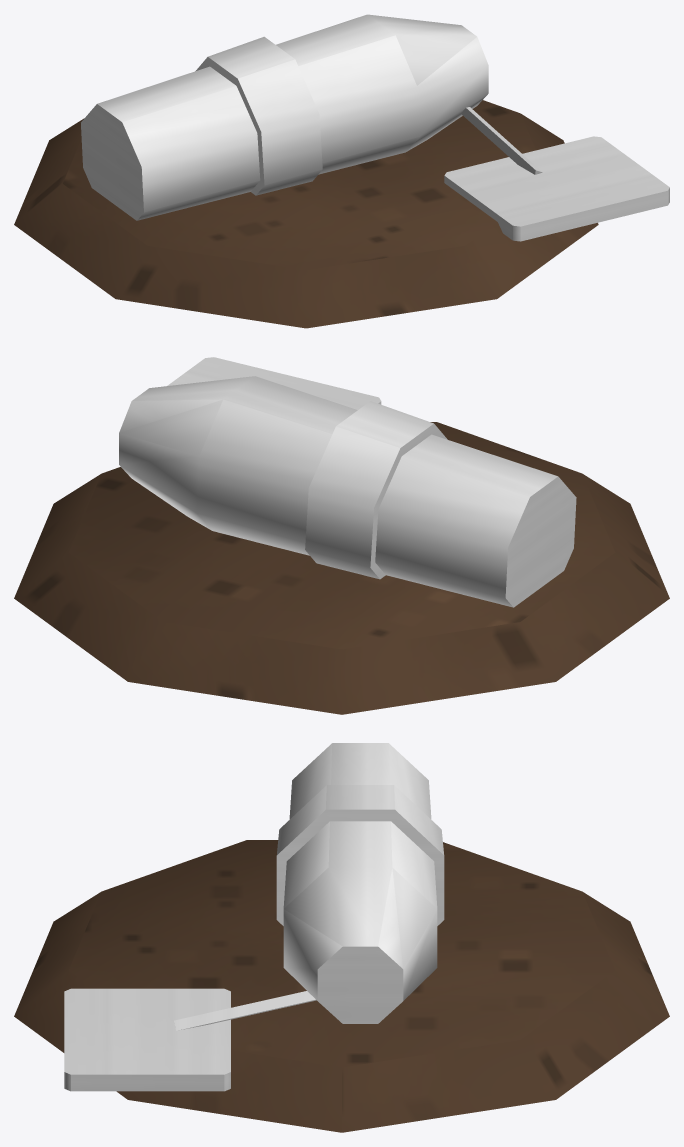
Rendered from ied_highexplosive.obj.
3 views of the same model, one above another, from view 1: azimuth 30°, elevation 25°; view 2: azimuth 150°, elevation 25°; view 3: azimuth 270°, elevation 25° (orthographic). The views are drawn at different scales.
Visible parts, largest first — view 1: retained_0, retained_10, trigger_control_plate, retained_44, retained_67; view 2: retained_0, retained_10, retained_44, trigger_control_plate; view 3: retained_0, retained_10, trigger_control_plate, retained_44, retained_67.
Part boxes in pixels (x1,y1,x2,y2): retained_0: (14, 100, 598, 328); retained_10: (81, 14, 488, 220); trigger_control_plate: (444, 136, 669, 241); retained_44: (195, 36, 322, 195); retained_67: (461, 107, 542, 174); retained_0: (14, 422, 669, 714); retained_10: (119, 376, 576, 607); retained_44: (305, 401, 447, 579); trigger_control_plate: (167, 357, 381, 409); retained_0: (14, 840, 669, 1132); retained_10: (283, 743, 437, 1023); trigger_control_plate: (64, 988, 230, 1091); retained_44: (276, 785, 444, 925); retained_67: (174, 991, 316, 1030).
Bounding box in the file's own units: 0.6983 × 0.2054 × 0.709.
